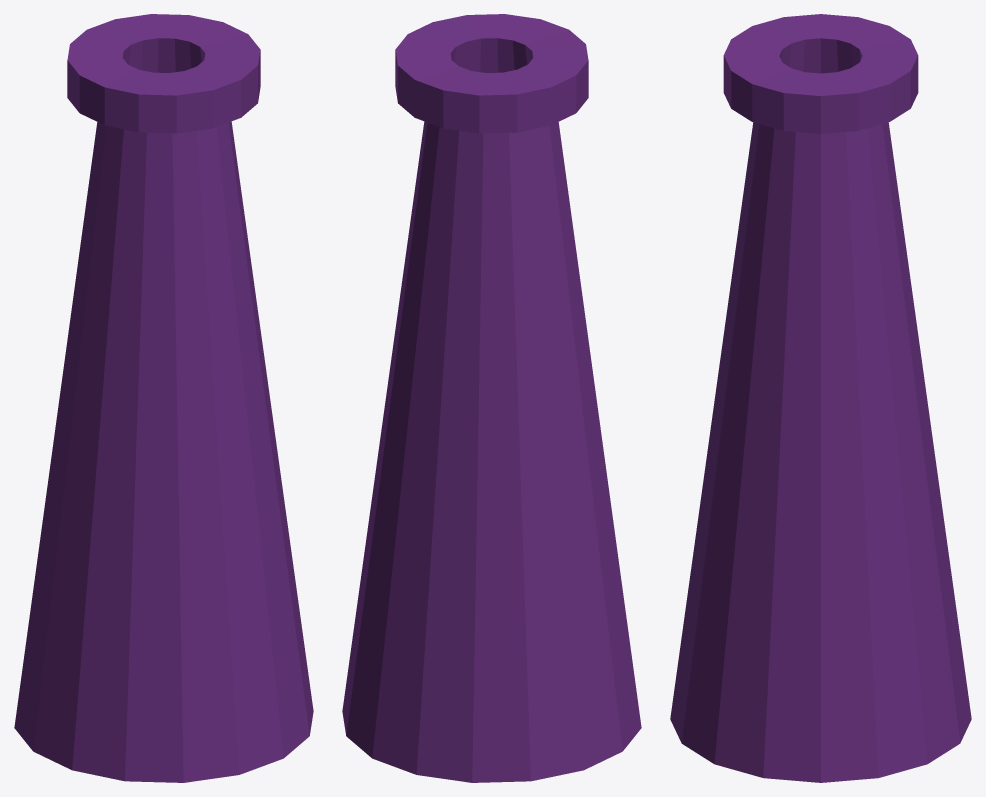
The model's file is Flower_BSDF_version.fbx.
3 renders of one model, left to right at view 1: azimuth 30°, elevation 25°; view 2: azimuth 150°, elevation 25°; view 3: azimuth 270°, elevation 25°, orthographic.
Visible parts, largest first — view 1: Flower Pot; view 2: Flower Pot; view 3: Flower Pot.
Boxes of the visible parts, x1=… form: Flower Pot: x1=14, y1=14, x2=313, y2=782; Flower Pot: x1=342, y1=14, x2=641, y2=782; Flower Pot: x1=670, y1=14, x2=971, y2=782.
Bounding box in the file's own units: 18 × 43.75 × 18.
